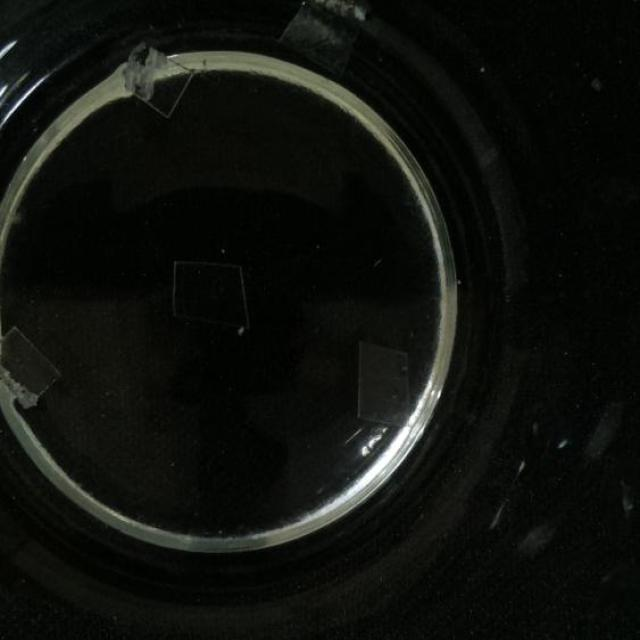fiber: (172, 258, 254, 338), (278, 0, 365, 68), (120, 44, 190, 117), (0, 325, 59, 405), (358, 339, 407, 428), (582, 399, 624, 457), (509, 520, 564, 562), (621, 472, 640, 521), (586, 69, 604, 98), (526, 416, 544, 435), (553, 436, 573, 452)
